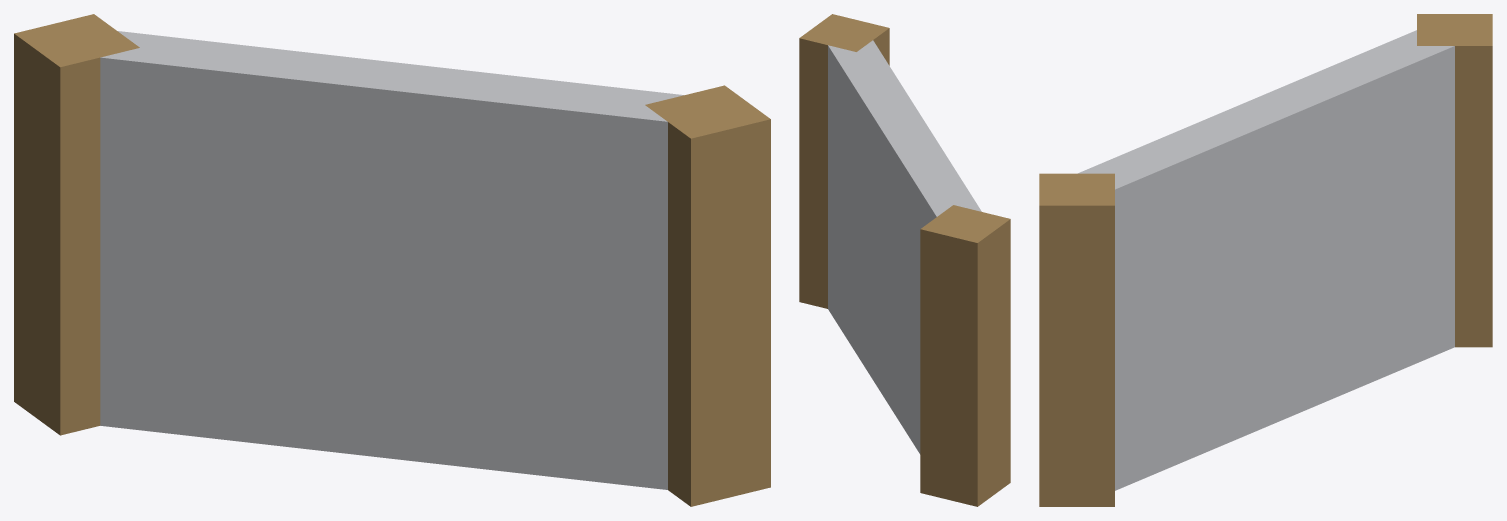
Rendered from Wood_Corner_01.obj.
3 views of the same model, side by side, from view 1: azimuth 30°, elevation 25°; view 2: azimuth 150°, elevation 25°; view 3: azimuth 270°, elevation 25° (orthographic). The views are drawn at different scales.
Visible parts, largest first — view 1: Mesh1_Wood_Corner_Model; view 2: Mesh1_Wood_Corner_Model; view 3: Mesh1_Wood_Corner_Model.
Part boxes in pixels (x1=…): Mesh1_Wood_Corner_Model: x1=14, y1=14, x2=770, y2=506; Mesh1_Wood_Corner_Model: x1=799, y1=14, x2=1010, y2=506; Mesh1_Wood_Corner_Model: x1=1039, y1=14, x2=1492, y2=506.
Bounding box in the file's own units: 3 × 2.2 × 3.
